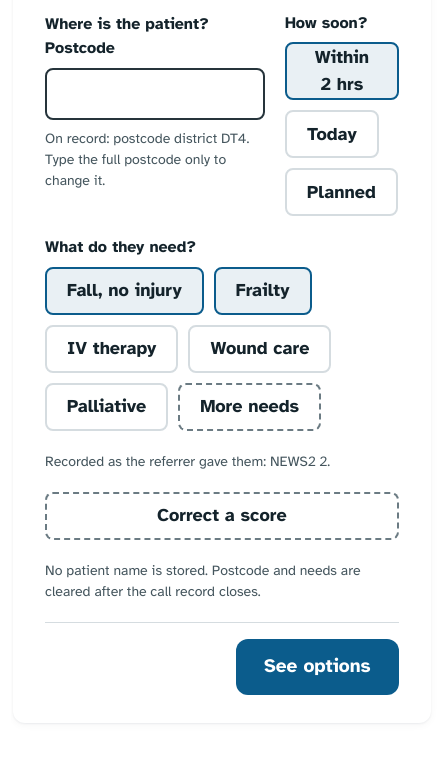
Test: a case changed by someone else (H-192) › says so, and reading the case again shows the latest and clears the message
(page scrolled)
Click the button "See options". click: (317, 667)
box: [236,639,399,695]
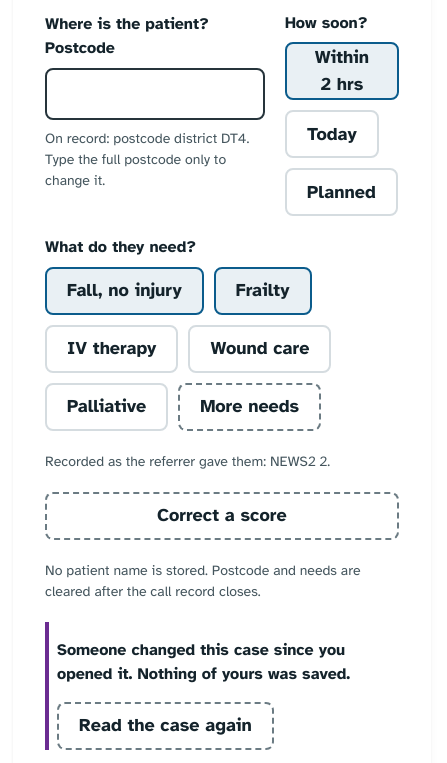
Now the text "Someone changed this case since you opened it. Nothing of yours was saved." is shown, box [57,638,399,686]
Click the button "Read the case again". click: (165, 726)
box: [57,702,274,750]
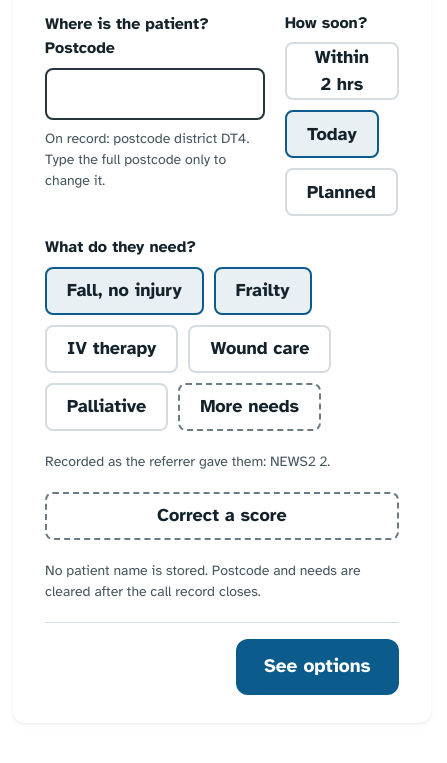
Now the text "Someone changed this case" is gone
